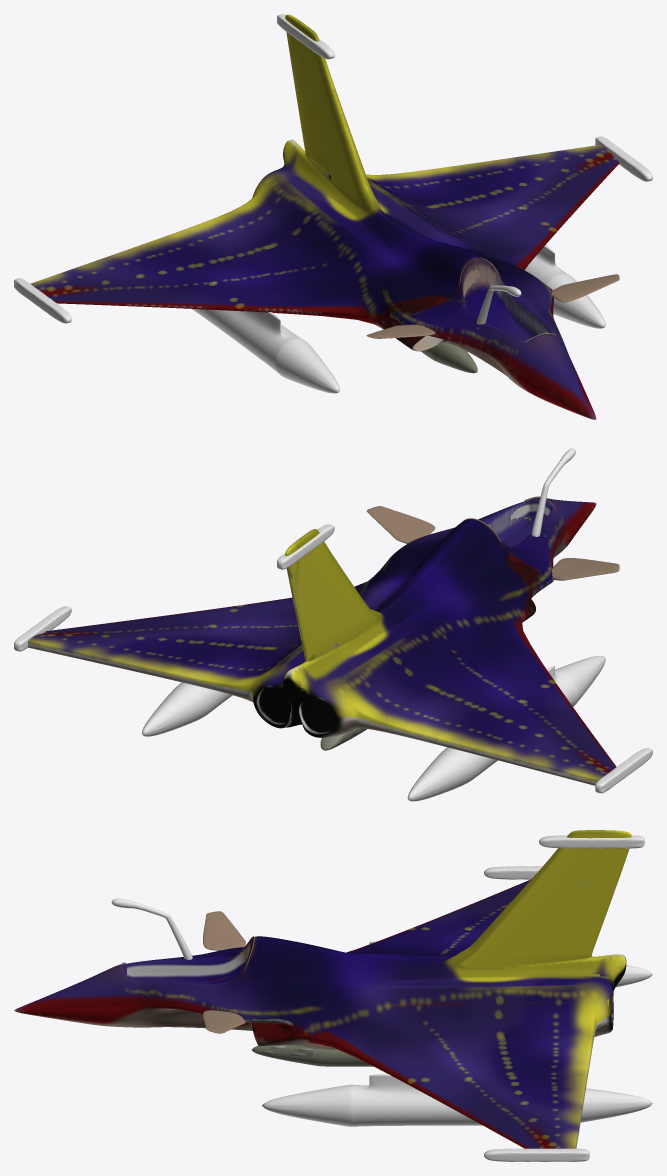
The model's file is 4k rafale.fbx.
The picture shows the model from 3 angles, top to bottom: view 1: azimuth 30°, elevation 25°; view 2: azimuth 150°, elevation 25°; view 3: azimuth 270°, elevation 25°; orthographic projection.
Visible parts, largest first — view 1: Cylinder.007, Cylinder.012, Cylinder.008, Cylinder.010, Cylinder.011, Cylinder.009; view 2: Cylinder.007, Cylinder.012, Cylinder.010, Cylinder.008, Cylinder.009, Cube.001; view 3: Cylinder.007, Cylinder.012, Cylinder.008, Cylinder.010, Cylinder.011, Cylinder.009, Cube.001.
Part boxes in pixels (x1=…): Cylinder.007: x1=30, y1=14, x2=619, y2=419; Cylinder.012: x1=192, y1=245, x2=605, y2=393; Cylinder.008: x1=14, y1=136, x2=652, y2=323; Cylinder.010: x1=366, y1=274, x2=619, y2=338; Cylinder.011: x1=420, y1=342, x2=477, y2=373; Cylinder.009: x1=277, y1=14, x2=334, y2=59; Cylinder.007: x1=28, y1=497, x2=616, y2=785; Cylinder.012: x1=142, y1=599, x2=605, y2=801; Cylinder.010: x1=367, y1=506, x2=619, y2=580; Cylinder.008: x1=14, y1=606, x2=652, y2=793; Cylinder.009: x1=277, y1=524, x2=334, y2=569; Cube.001: x1=531, y1=448, x2=575, y2=536; Cylinder.007: x1=14, y1=830, x2=631, y2=1148; Cylinder.012: x1=262, y1=941, x2=652, y2=1126; Cylinder.008: x1=484, y1=866, x2=589, y2=1161; Cylinder.010: x1=203, y1=911, x2=245, y2=1033; Cylinder.011: x1=252, y1=1045, x2=373, y2=1066; Cylinder.009: x1=539, y1=835, x2=644, y2=848; Cube.001: x1=111, y1=898, x2=192, y2=959.
Size of the model in its own units: 2285 by 872 by 2153.
Materials: 3 (2 with a texture image).
